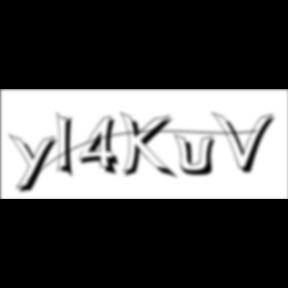4: (79, 115, 126, 179)
I: (57, 110, 81, 182)
K: (120, 110, 180, 182)
V: (212, 110, 278, 176)
u: (174, 132, 222, 178)
y: (9, 132, 63, 196)
